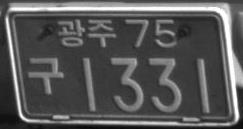1: (74, 56, 104, 112), (189, 57, 218, 114)
3: (109, 55, 145, 114), (147, 56, 183, 114)
5: (153, 17, 179, 48)
7: (123, 17, 150, 48)
광주_O: (56, 16, 116, 48)
구: (26, 55, 64, 96)
